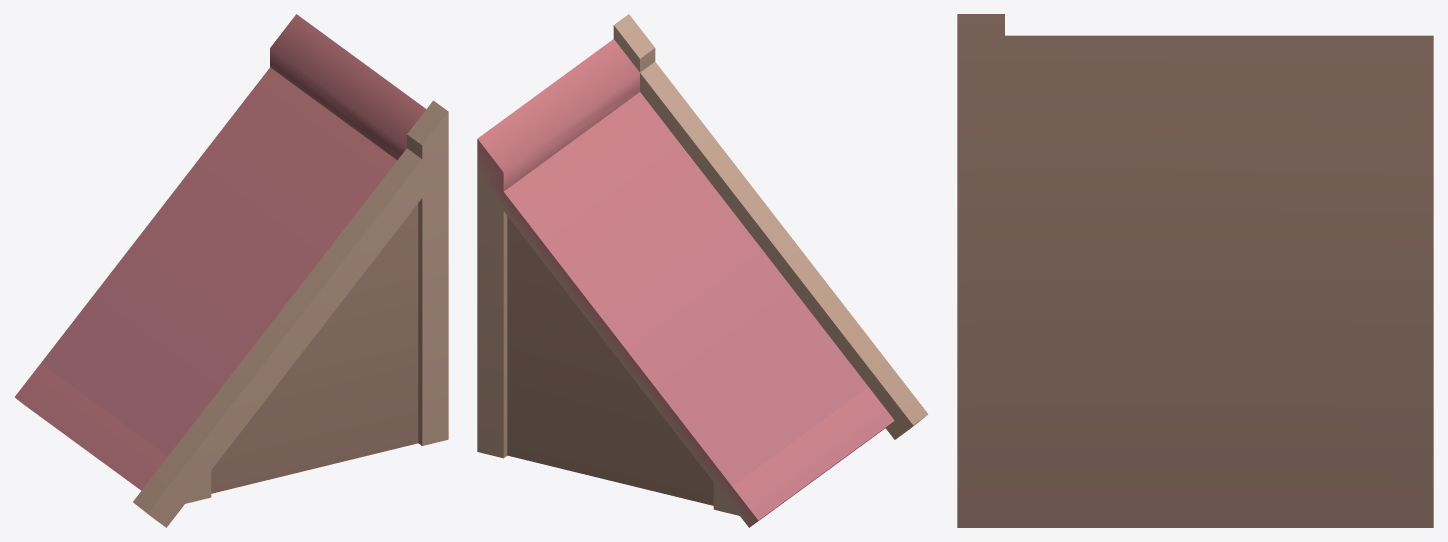
The model's file is roof-high-right.glb.
3 renders of one model, left to right at view 1: azimuth 30°, elevation 25°; view 2: azimuth 150°, elevation 25°; view 3: azimuth 270°, elevation 25°, orthographic. The views are drawn at different scales.
Visible parts, largest first — view 1: roof-high-right; view 2: roof-high-right; view 3: roof-high-right.
Boxes of the visible parts, bbox=[...] form: roof-high-right: bbox=[15, 14, 448, 527]; roof-high-right: bbox=[477, 14, 928, 527]; roof-high-right: bbox=[957, 14, 1433, 527].
Bounding box in the file's own units: 1.14 × 1.26 × 1.
